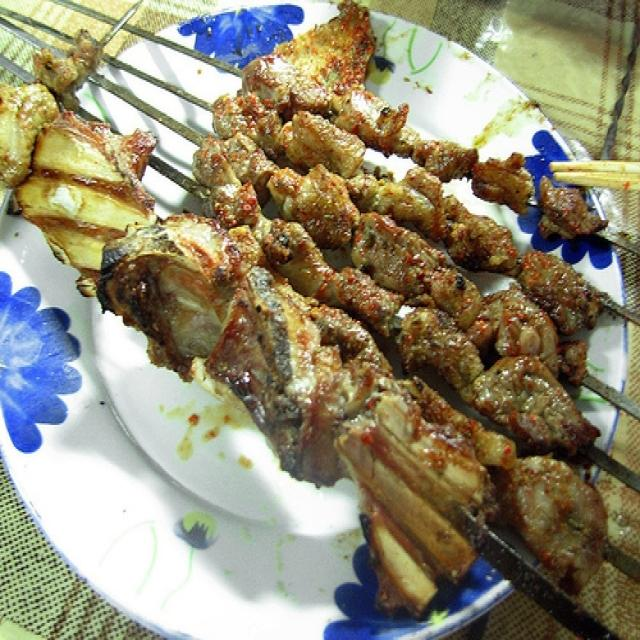烧串烤肉: (11, 17, 621, 618)
